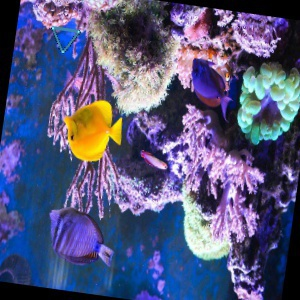triangle: (49, 24, 81, 54)
